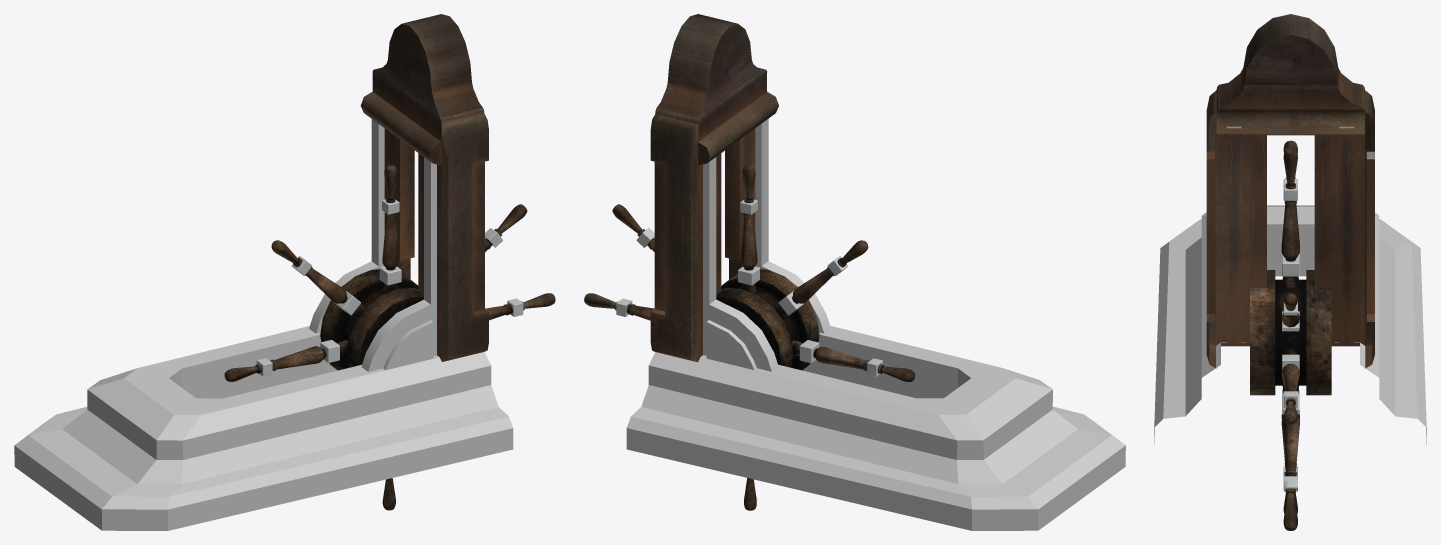
The model's file is lever_6.fbx.
3 renders of one model, left to right at view 1: azimuth 30°, elevation 25°; view 2: azimuth 150°, elevation 25°; view 3: azimuth 270°, elevation 25°, orthographic. The views are drawn at different scales.
Visible parts, largest first — view 1: lever_base, lever; view 2: lever_base, lever; view 3: lever_base, lever.
Boxes of the visible parts, x1,y1,x2,y2 form: lever_base: [14, 14, 513, 530]; lever: [224, 164, 555, 510]; lever_base: [626, 14, 1125, 530]; lever: [584, 164, 915, 510]; lever_base: [1154, 14, 1426, 444]; lever: [1250, 140, 1331, 530].
Size of the model in its own units: 64.05 by 59 by 28.3.
